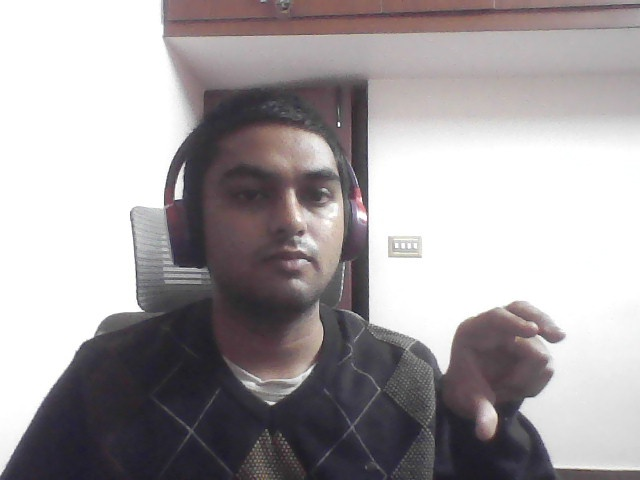No: (407, 273, 579, 453)
